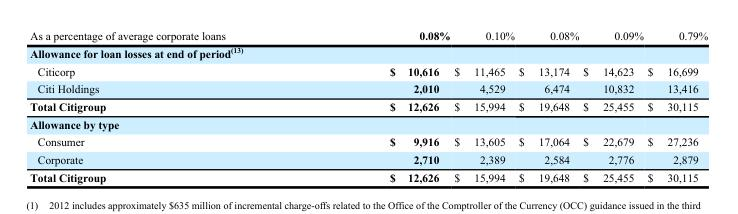table: (29, 29, 707, 183)
table column: (29, 29, 306, 183), (306, 29, 451, 183), (515, 29, 580, 183), (451, 29, 515, 183), (580, 29, 644, 183), (644, 29, 707, 183)
table column header: (29, 29, 707, 43)
table projected row header: (29, 43, 707, 62), (29, 115, 707, 132)
table row: (29, 43, 707, 62), (29, 79, 707, 97), (29, 97, 707, 115), (29, 132, 707, 150), (29, 150, 707, 168), (29, 62, 707, 79), (29, 115, 707, 132), (29, 168, 707, 183), (29, 29, 707, 43)
